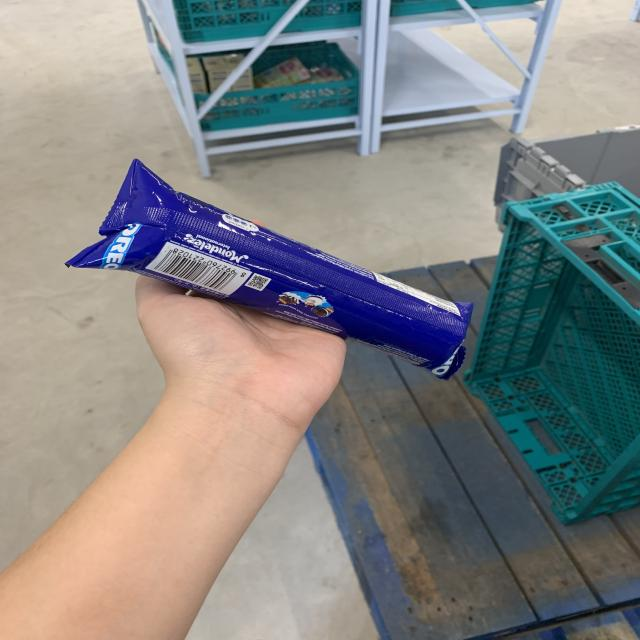object_name: (131, 179, 457, 362)
